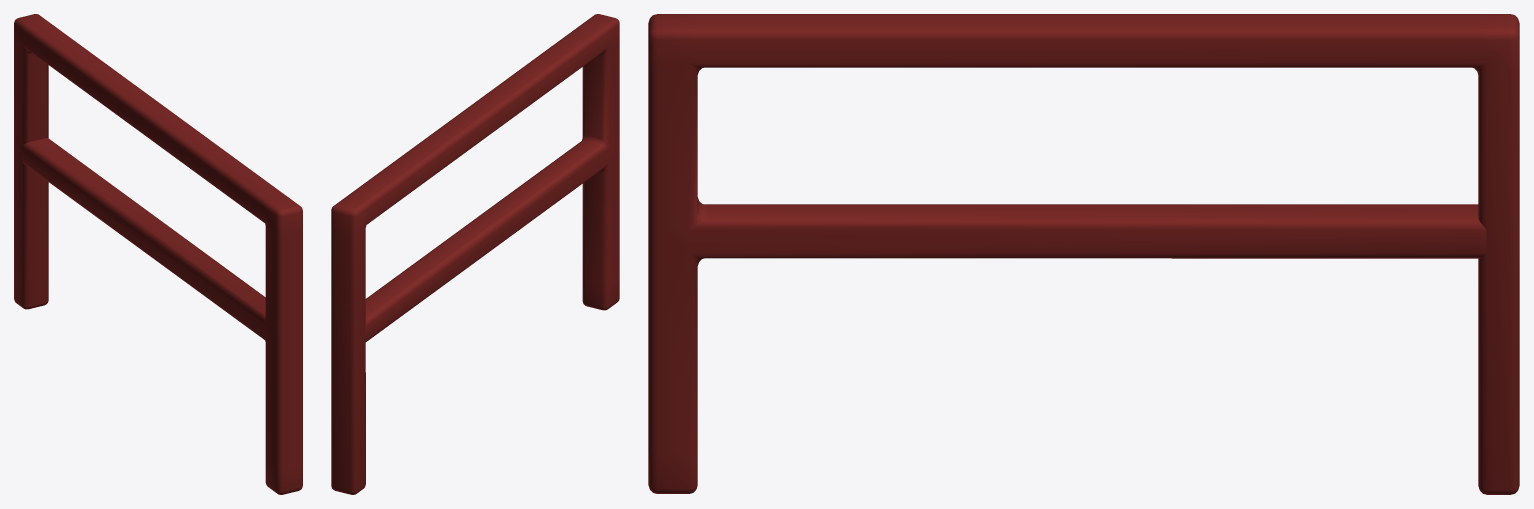
The model's file is plotek.fbx.
3 renders of one model, left to right at view 1: azimuth 30°, elevation 25°; view 2: azimuth 150°, elevation 25°; view 3: azimuth 270°, elevation 25°, orthographic. The views are drawn at different scales.
Parts seen in each view (by area): view 1: Cube.001; view 2: Cube.001; view 3: Cube.001.
Part boxes in pixels (left/top/right/bottom): Cube.001: left=14, top=14, right=302, bottom=494; Cube.001: left=331, top=14, right=619, bottom=494; Cube.001: left=648, top=14, right=1519, bottom=494.
Size of the model in its own units: 3.31 by 34.55 by 58.5.
